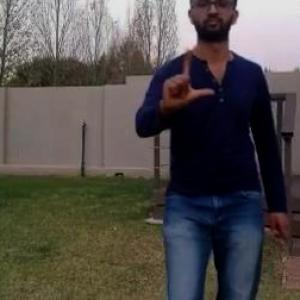land_hand: (154, 43, 216, 115)
